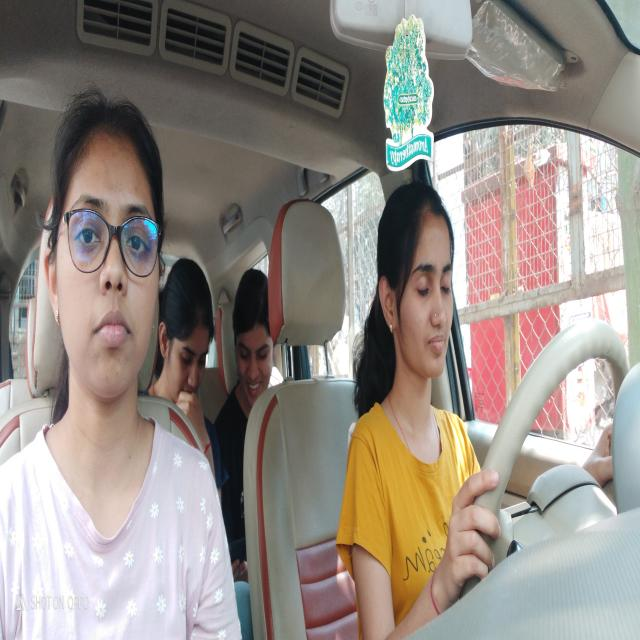drowsy: (373, 184, 459, 398)
person: (44, 90, 164, 401), (160, 244, 215, 418), (231, 263, 278, 409)
